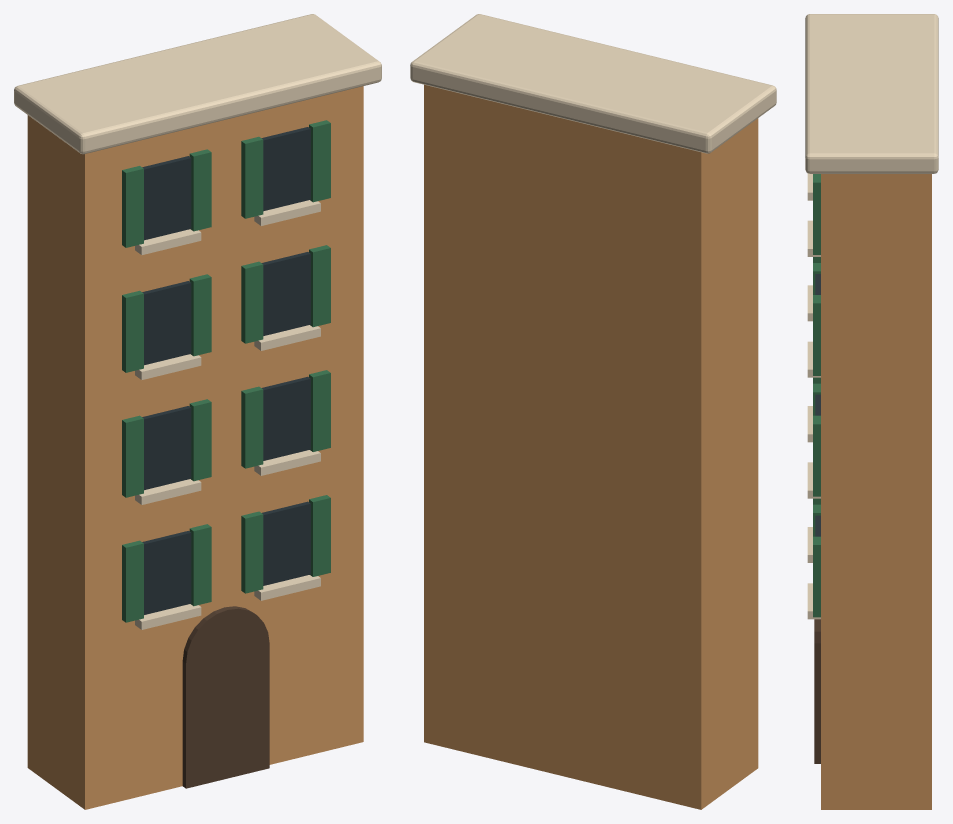
File: edificio_ocre.glb
3 views of the same model, side by side, from view 1: azimuth 30°, elevation 25°; view 2: azimuth 150°, elevation 25°; view 3: azimuth 270°, elevation 25° (orthographic). The views are drawn at different scales.
Visible parts, largest first — view 1: Cube, Cube.001, Cube.034, Cube.006, Cube.010, Cube.014, Cube.018, Cube.026, Cube.030, Cube.002, Cube.022, Cylinder (+24 smaller); view 2: Cube, Cube.001; view 3: Cube, Cube.001, Cube.034, Cube.008, Cube.016, Cube.024, Cube.032.
Boxes of the visible parts, left/top/right/bottom form: Cube: left=27, top=86, right=363, bottom=809; Cube.001: left=14, top=14, right=381, bottom=154; Cube.034: left=182, top=643, right=269, bottom=788; Cube.006: left=262, top=501, right=310, bottom=585; Cube.010: left=142, top=406, right=191, bottom=490; Cube.014: left=262, top=376, right=310, bottom=460; Cube.018: left=142, top=281, right=191, bottom=365; Cube.026: left=142, top=156, right=191, bottom=240; Cube.030: left=261, top=127, right=310, bottom=211; Cube.002: left=142, top=531, right=191, bottom=614; Cube.022: left=261, top=252, right=310, bottom=335; Cylinder: left=182, top=606, right=269, bottom=691; Cube: left=424, top=84, right=758, bottom=809; Cube.001: left=410, top=14, right=776, bottom=153; Cube: left=821, top=174, right=931, bottom=809; Cube.001: left=805, top=14, right=938, bottom=173; Cube.034: left=814, top=643, right=820, bottom=763; Cube.008: left=813, top=536, right=820, bottom=617; Cube.016: left=813, top=415, right=820, bottom=496; Cube.024: left=813, top=295, right=820, bottom=375; Cube.032: left=813, top=174, right=820, bottom=254.
Size of the model in its own units: 1.52 by 3.28 by 0.6.
